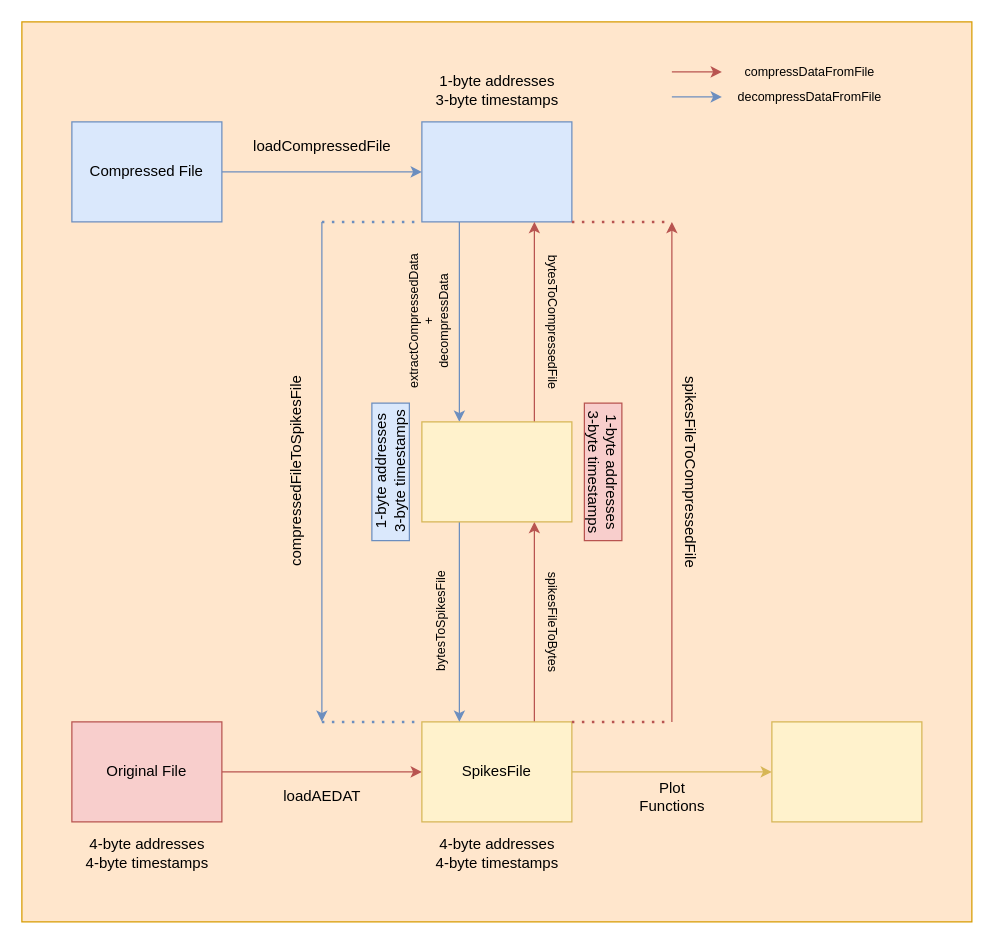
Some shapes in this 994 by 944 pixel diagram are drawn without their labels. Here are the shapes that lost their labels. From the top down, the centre of each, then its label:
the point at 496,171: Compressed data + CompressedFileHeader
the point at 496,471: Bytes
the point at 846,771: Plots
